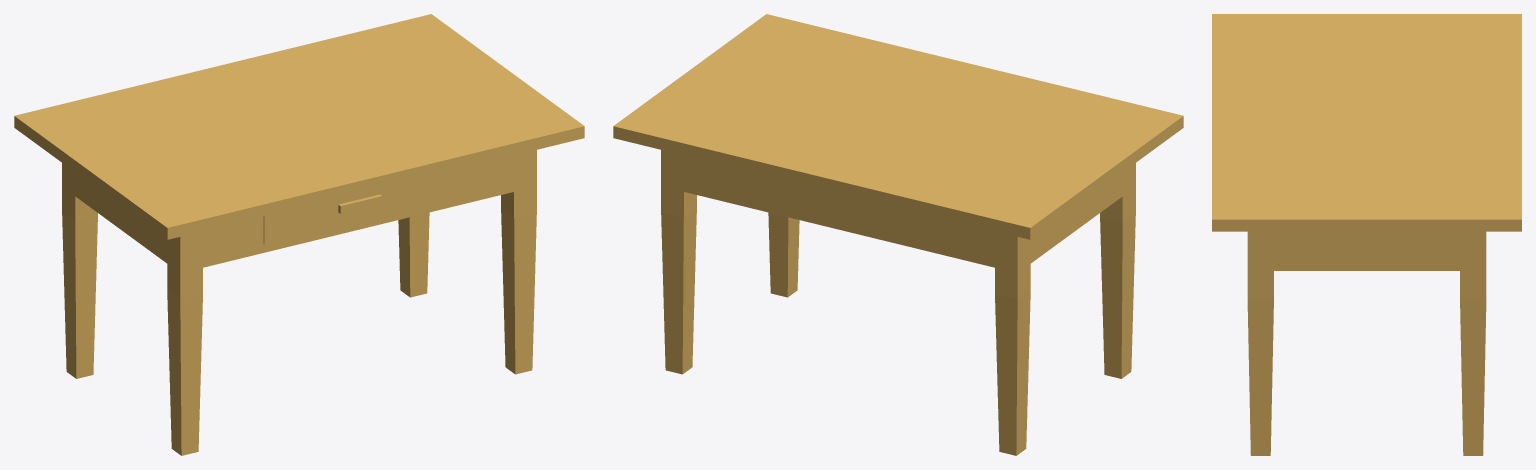
Rendered from table.gltf.
3 views of the same model, side by side, from view 1: azimuth 30°, elevation 25°; view 2: azimuth 150°, elevation 25°; view 3: azimuth 270°, elevation 25° (orthographic).
Parts seen in each view (by area): view 1: table_clone; view 2: table_clone; view 3: table_clone.
Part boxes in pixels (left/top/right/bottom): table_clone: left=14, top=14, right=584, bottom=455; table_clone: left=613, top=14, right=1183, bottom=455; table_clone: left=1212, top=14, right=1521, bottom=455.
Size of the model in its own units: 1.1 by 0.63 by 0.7.
